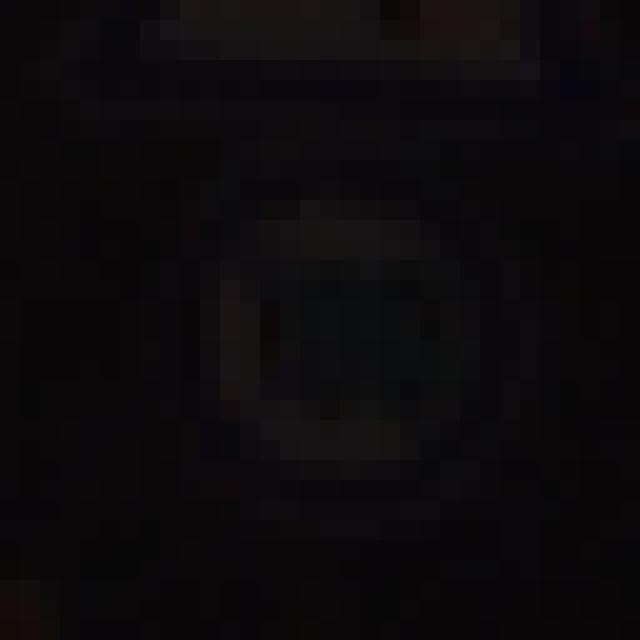SPEED LIMIT 100: (192, 179, 508, 492)
